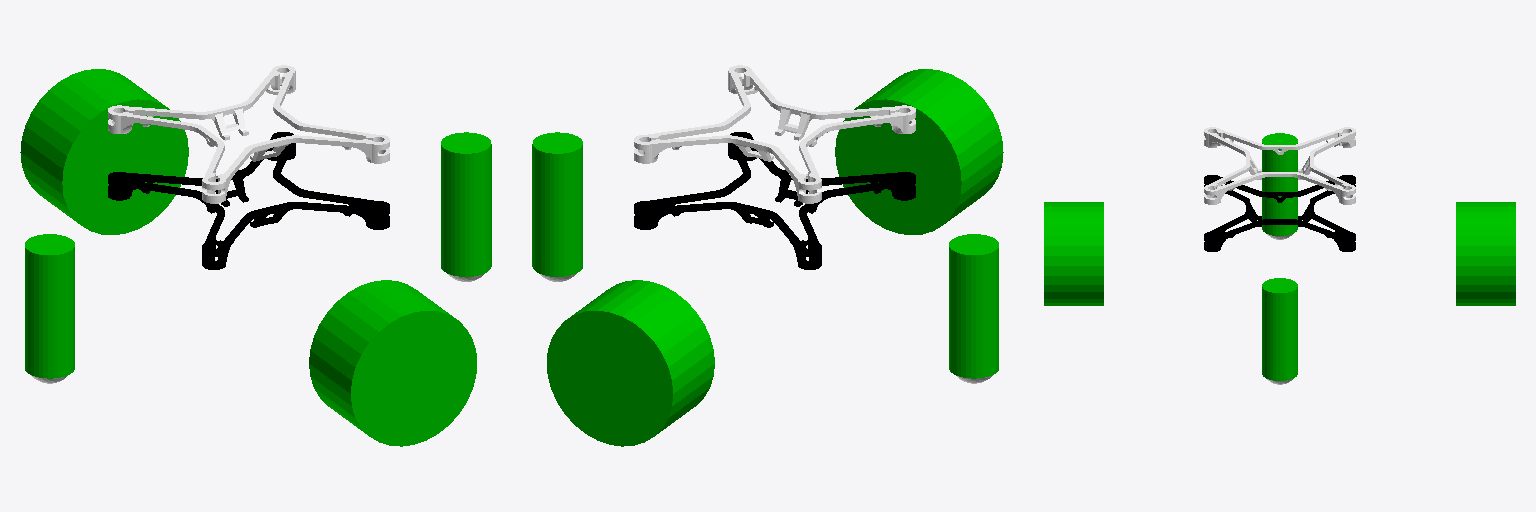
URDF robot description (edrone_model):
<?xml version="1.0" ?>

<robot name="edrone_model" xmlns:xacro="http://www.ros.org/wiki/xacro">

  <!-- Defining the colors used in this robot -->
  <material name="Black">
    <color rgba="0.0 0.0 0.0 1.0"/>
  </material>
  <material name="Red">
    <color rgba="0.8 0.0 0.0 1.0"/>
  </material>
  <material name="Green">
    <color rgba="0.0 0.8 0.0 1.0"/>
  </material>
  <material name="White">
    <color rgba="1.0 1.0 1.0 1.0"/>
  </material>
  <material name="Blue">
    <color rgba="0.0 0.0 0.8 1.0"/>
  </material>
  --&gt;

  <!-- BASE-LINK -->
  <!--Actual body/chassis of the robot-->
  <link name="frame_link">
    <visual>
      <origin rpy="-1.57079632679 0 1.57079632679" xyz="0 0 0.07"/>
      <geometry>
         <mesh filename="package://edrone_gazebo/urdf/stl/frame.stl" scale="0.001 0.001 0.001"/>
      </geometry>
      <material name="Black"/>
    </visual>
    <collision>
      <origin rpy="0 0 0" xyz="0 0 0.07"/>
      <geometry>
        <!--<mesh filename="package://indoor-mapping-2019/urdf/stl/Combine_Lower_Body.stl" scale="0.001 0.001 0.001"/> -->
        <cylinder length="0.004" radius="0.15"/>
      </geometry>
      <material name="White"/>
    </collision>
  </link>

  <gazebo reference="frame_link">
    <material>Gazebo/Black</material>
    <turnGravityOff>false</turnGravityOff>
  </gazebo>
  <!-- End base link -->

  <!-- Middle link  -->
  <link name="middle_link">
    <inertial>
        <mass value="0.2"/>
        <origin rpy="0 0 0" xyz="0 0 0"/>
        <inertia ixx="0.0000282916666667" ixy="0" ixz="0" iyy="0.0000282916666667" iyz="0" izz="0.00005625"/>
    </inertial>
    <visual>
      <origin rpy="-1.57079632679 0 1.57079632679" xyz="0 0 0"/>
      <geometry>
         <mesh filename="package://edrone_gazebo/urdf/stl/frame.stl" scale="0.001 0.001 0.001"/>
      </geometry>
      <material name="White"/>
    </visual>
    <collision>
      <origin rpy="-1.57079632679 0 1.57079632679" xyz="0 0 0"/>
      <geometry>
         <mesh filename="package://edrone_gazebo/urdf/stl/frame.stl" scale="0.001 0.001 0.001"/>
      </geometry>
      <material name="White"/>
    </collision>
  </link>

  <gazebo reference="middle_link">
    <material>Gazebo/White</material>
    <turnGravityOff>false</turnGravityOff>
  </gazebo>

  <joint name="middle_joint" type="fixed">
    <parent link="frame_link"/>
    <child link="middle_link"/>
    <origin rpy="0 0 0" xyz="0 0.0 .07"/>
  </joint>

  <gazebo reference="middle_link">
    <turnGravityOff>false</turnGravityOff>
    <material>Gazebo/White</material>
  </gazebo>
  <!-- End middle link -->

  <!-- Top link -->
  <link name="top_link">
    <inertial>
      <mass value="0.3"/>
      <origin rpy="0 0 0" xyz="0 0 0"/>
      <!--The 3x3 rotational inertia matrix. -->
      <inertia ixx="0.0000282916666667" ixy="0" ixz="0" iyy="0.0000282916666667" iyz="0" izz="0.00005625"/>
    </inertial>
    <visual>
      <origin rpy="-1.57079632679 0 1.57079632679" xyz="0 0 0"/>
      <geometry>
         <mesh filename="package://edrone_gazebo/urdf/stl/frame.stl" scale="0.001 0.001 0.001"/>
      </geometry>
      <material name="White"/>
    </visual>
    <collision>
      <origin rpy="-1.57079632679 0 1.57079632679" xyz="0 0 0"/>
      <geometry>
         <mesh filename="package://edrone_gazebo/urdf/stl/frame.stl" scale="0.001 0.001 0.001"/>
      </geometry>
      <material name="White"/>
    </collision>
  </link>

  <gazebo reference="top_link">
    <material>Gazebo/White</material>
    <turnGravityOff>false</turnGravityOff>
  </gazebo>

  <joint name="top_joint" type="fixed">
    <parent link="middle_link"/>
    <child link="top_link"/>
    <origin rpy="0 0 0" xyz="0 0.0 .035"/>
  </joint>

  <gazebo reference="top_link">
    <turnGravityOff>false</turnGravityOff>
    <material>Gazebo/White</material>
  </gazebo>
  <!-- End top link -->

  <!-- Right wheel -->
  <link name="right_wheel">
    <visual>
      <origin rpy="1.57079632679 0  0 " xyz="0 0 0"/>
      <geometry>
        <cylinder length="0.04" radius="0.035"/>
      </geometry>
      <material name="Green"/>
    </visual>
    <collision>
      <origin rpy="1.57079632679 0 0 " xyz="0 0 0"/>
      <geometry>
        <cylinder length="0.04" radius="0.035"/>
      </geometry>
    </collision>
    <inertial>
      <mass value="0.5"/>
      <origin xyz="0 0 0"/>
      <inertia ixx="0.0001" ixy="0" ixz="0" iyy="0.0001" iyz="0" izz="0.0001"/>
    </inertial>
  </link>

  <gazebo reference="right_wheel">
    <mu1 value="1.0"/>
    <mu2 value="1.0"/>
    <kp value="100000.0"/>
    <kd value="1.0"/>
    <fdir1 value="1 0 0"/>
    <material>Gazebo/Green</material>
    <turnGravityOff>false</turnGravityOff>
  </gazebo>

  <joint name="right_wheel_joint" type="continuous">
    <parent link="frame_link"/>
    <child link="right_wheel"/>
      <origin rpy="0 0 0" xyz="0.0 0.138 0.035"/>
    <axis rpy="0 0 0" xyz="0 1 0"/>
    <limit effort="100" velocity="100"/>
    <joint_properties damping="0.0" friction="0.0"/>
  </joint>
  <!-- End right wheel-->

  <!-- Left wheel-->
  <link name="left_wheel">
    <visual>
      <origin rpy="1.57079632679 0  0 " xyz="0 0 0"/>
      <geometry>
        <cylinder length="0.04" radius="0.035"/>
      </geometry>
      <material name="Green"/>
    </visual>
    <collision>
      <origin rpy="1.57079632679 0 0 " xyz="0 0 0"/>
      <geometry>
        <cylinder length="0.04" radius="0.035"/>
      </geometry>
    </collision>
    <inertial>
      <mass value="0.5"/>
      <origin xyz="0 0 0"/>
      <inertia ixx="0.0001" ixy="0" ixz="0" iyy="0.0001" iyz="0" izz="0.0001"/>
    </inertial>
  </link>

  <gazebo reference="left_wheel">
    <mu1 value="1.0"/>
    <mu2 value="1.0"/>
    <kp value="100000.0"/>
    <kd value="1.0"/>
    <fdir1 value="1 0 0"/>
    <material>Gazebo/Green</material>
    <turnGravityOff>false</turnGravityOff>
  </gazebo>

  <joint name="left_wheel_joint" type="continuous">
    <parent link="frame_link"/>
    <child link="left_wheel"/>
    <origin rpy="0 0 0" xyz="0 -0.138 0.035"/>
    <axis rpy="0  0" xyz="0 1 0"/>
    <limit effort="100" velocity="100"/>
    <joint_properties damping="0.0" friction="0.0"/>
  </joint>

  <!-- Transmission is important to link the joints and the controller -->
  <transmission name="right_wheel_joint_trans">
    <type>transmission_interface/SimpleTransmission</type>
    <joint name="right_wheel_joint"/>
    <actuator name="right_wheel_joint_motor">
      <hardwareInterface>EffortJointInterface</hardwareInterface>
      <mechanicalReduction>1</mechanicalReduction>
    </actuator>
  </transmission>

  <transmission name="left_wheel_joint_trans">
    <type>transmission_interface/SimpleTransmission</type>
    <joint name="left_wheel_joint"/>
    <actuator name="left_wheel_joint_motor">
      <hardwareInterface>EffortJointInterface</hardwareInterface>
      <mechanicalReduction>1</mechanicalReduction>
    </actuator>
  </transmission>


  <!-- Front Caster -->
  <link name="caster_front_link">
    <visual>
      <origin rpy="1.57079632679 0 0" xyz="0 0 0"/>
      <geometry>
        <sphere radius="0.01214"/>
      </geometry>
      <material name="White"/>
    </visual>
    <collision>
      <geometry>
        <sphere radius="0.007"/>
      </geometry>
      <origin rpy="1.57079632679 0 0" xyz="0 0 0"/>
    </collision>
    <inertial>
      <mass value="0.01"/>
      <origin xyz="0 0 0"/>
      <inertia ixx="0.0000001" ixy="0.0" ixz="0.0" iyy="0.0000001" iyz="0.0" izz="0.0000001"/>
    </inertial>
  </link>
  <joint name="caster_front_joint" type="continuous">
    <parent link="caster_link"/>
    <child link="caster_front_link"/>
    <origin rpy="0 0 0" xyz="0.05 0 -0.0275"/>
    <axis rpy="0 0 0" xyz="0 1 0"/>
  </joint>
  <gazebo reference="caster_front_link">
  <!--
    <mu1 value="1.0"/>
    <mu2 value="1.0"/>
    <kp value="100000.0"/>
    <kd value="1.0"/>
    <fdir1 value="1 1 0"/>
  -->
    <turnGravityOff>false</turnGravityOff>
    <material>Gazebo/White</material>
  </gazebo>

  <link name="caster_link">
    <visual>
      <origin rpy="0 0  0 " xyz="0.05 0 0"/>
      <geometry>
        <cylinder length="0.065" radius="0.01214"/>
      </geometry>
      <material name="Green"/>
    </visual>
    <collision>
      <origin rpy="0 0 0 " xyz="0.05 0 0"/>
      <geometry>
        <cylinder length="0.065" radius="0.005"/>
      </geometry>
    </collision>
    <inertial>
      <mass value="0.05"/>
      <origin xyz="0.05 0 0"/>
      <inertia ixx="0.00001" ixy="0" ixz="0" iyy="0.00001" iyz="0" izz="0.00001"/>
    </inertial>
  </link>

  <joint name="caster_front_joint_base" type="fixed">
    <parent link="frame_link"/>
    <child link="caster_link"/>
    <origin rpy="0 0 0" xyz="0.07 0.0 .035"/>
  </joint>

  <gazebo reference="caster_link">
    <turnGravityOff>false</turnGravityOff>
    <material>Gazebo/White</material>
  </gazebo>

  <!-- Back caster  -->
  <link name="caster_back_link">
    <visual>
      <origin rpy="1.57079632679 0 0" xyz="0 0 0"/>
      <geometry>
        <sphere radius="0.01214"/>
      </geometry>
      <material name="White"/>
    </visual>
    <collision>
      <geometry>
        <sphere radius="0.007"/>
      </geometry>
      <origin rpy="1.57079632679 0 0" xyz="0 0 0"/>
    </collision>
    <inertial>
      <mass value="0.01"/>
      <origin xyz="0 0 0"/>
      <inertia ixx="0.0000001" ixy="0.0" ixz="0.0" iyy="0.0000001" iyz="0.0" izz="0.0000001"/>
    </inertial>
  </link>
  <joint name="caster_back_joint" type="continuous">
    <parent link="caster_b_link"/>
    <child link="caster_back_link"/>
    <origin rpy="0 0 0" xyz="0.05 0 -0.0275"/>
    <axis rpy="0 0 0" xyz="0 1 0"/>
  </joint>

  <gazebo reference="caster_front_link">
  <!--
    <mu1 value="1.0"/>
    <mu2 value="1.0"/>
    <kp value="100000.0"/>
    <kd value="1.0"/>
    <fdir1 value="1 1 0"/>
  -->
    <turnGravityOff>false</turnGravityOff>
    <material>Gazebo/White</material>
  </gazebo>

  <link name="caster_b_link">
    <visual>
      <origin rpy="0 0  0 " xyz="0.05 0 0"/>
      <geometry>
        <cylinder length="0.065" radius="0.01214"/>
      </geometry>
      <material name="Green"/>
    </visual>
    <collision>
      <origin rpy="0 0 0 " xyz="0.05 0 0"/>
      <geometry>
        <cylinder length="0.065" radius="0.005"/>
      </geometry>
    </collision>
    <inertial>
      <mass value="0.05"/>
      <origin xyz="0.05 0 0"/>
      <inertia ixx="0.00001" ixy="0" ixz="0" iyy="0.00001" iyz="0" izz="0.00001"/>
    </inertial>
  </link>

  <joint name="caster_back_joint_base" type="fixed">
    <parent link="frame_link"/>
    <child link="caster_b_link"/>
    <origin rpy="0 0 0" xyz="-0.16 0.0 .035"/>
  </joint>

  <gazebo reference="caster_link">
    <turnGravityOff>false</turnGravityOff>
    <material>Gazebo/White</material>
  </gazebo>

  <!-- Kinect sensor -->
  <link name="kinect_link" >
    <inertial>
      <mass value="0.1"/>
      <origin rpy="0 0 0" xyz="0 0 0"/>
      <inertia ixx="0.0000282916666667" ixy="0" ixz="0" iyy="0.0000282916666667" iyz="0" izz="0.00005625"/>
    </inertial>
    <visual>
      <origin rpy="0 0 0" xyz="0 0 0"/>
      <geometry>
            <mesh filename="package://indoor-mapping-2019/urdf/meshes/kinect.stl" scale="0.001 0.001 0.001"/>
      </geometry>
      <material name="Black"/>
    </visual>
    <collision>
      <origin rpy="0 0 0" xyz="0 0 0"/>
      <geometry>
        <cylinder length="0.065" radius="0.005"/>
      </geometry>
      <material name="Black"/>
    </collision>
  </link>

  <joint name="kinect_joint" type="fixed">
    <parent link="middle_link"/>
    <child link="kinect_link"/>
    <origin rpy="0 0 0" xyz="0.075 0.0 0.155"/>
  </joint>

  <gazebo reference="kinect_link">
    <turnGravityOff>false</turnGravityOff>
    <material>Gazebo/Black</material>
  </gazebo>
  <!-- End kinect sensor -->

  <!-- Dummy link to hold camera -->
  <!-- Ensures that transformations can be applied to pointcloud data without affecting the kinect link-->
  <link name="camera_link" >
  </link>

  <joint name="camera_joint" type="fixed">
    <parent link="kinect_link"/>
    <child link="camera_link"/>
      <origin rpy="0 0 0" xyz="0 0 0"/>
  </joint>
  <!-- End dummy link -->

  <!-- Gazebo kinect camera plugin -->
  <gazebo reference="camera_link">
    <sensor name='camera' type='depth'>
      <always_on>1</always_on>
      <update_rate>20</update_rate>
      <camera name='__default__'>
        <horizontal_fov>1.0472</horizontal_fov>
        <image>
          <format>B8G8R8</format>
          <width>640</width>
          <height>480</height>
        </image>
        <clip>
          <near>0.05</near>
          <far>8</far>
        </clip>
      </camera>
      <plugin name='kinect_camera_controller' filename='libgazebo_ros_openni_kinect.so'>
        <cameraName>camera</cameraName>
        <alwaysOn>true</alwaysOn>
        <updateRate>10</updateRate>
        <imageTopicName>rgb/image_raw</imageTopicName>
        <depthImageTopicName>depth/image_raw</depthImageTopicName>
        <pointCloudTopicName>depth/points</pointCloudTopicName>
        <cameraInfoTopicName>rgb/camera_info</cameraInfoTopicName>
        <depthImageCameraInfoTopicName>depth/camera_info</depthImageCameraInfoTopicName>
        <frameName>camera_link</frameName>
        <baseline>0.1</baseline>
        <distortion_k1>0.0</distortion_k1>
        <distortion_k2>0.0</distortion_k2>
        <distortion_k3>0.0</distortion_k3>
        <distortion_t1>0.0</distortion_t1>
        <distortion_t2>0.0</distortion_t2>
        <pointCloudCutoff>0.4</pointCloudCutoff>
        <robotNamespace>/</robotNamespace>
      </plugin>
      <pose> -0.087 -0.0015 0.2972 1.58 0 0</pose>
    </sensor>
  </gazebo>
  <!-- End kinect camera plugin -->

  <!-- Gazebo differential drive robot plugin -->
  <gazebo>
    <plugin filename="libgazebo_ros_diff_drive.so" name="differential_drive_controller_front">
      <legacyMode>True</legacyMode>
      <rosDebugLevel>False</rosDebugLevel>
      <publishWheelTF>True</publishWheelTF>
      <publishTf>true</publishTf>
      <publishWheelJointState>true</publishWheelJointState>
      <alwaysOn>true</alwaysOn>
      <updateRate>10.0</updateRate>
      <leftJoint>left_wheel_joint</leftJoint>
      <rightJoint>right_wheel_joint</rightJoint>
      <wheelSeparation>0.3</wheelSeparation>
      <wheelDiameter>0.065</wheelDiameter>
      <broadcastTF>true</broadcastTF>
      <wheelTorque>30</wheelTorque>
      <wheelAcceleration>1.8</wheelAcceleration>
      <commandTopic>cmd_vel</commandTopic>
      <publishOdomTF>true</publishOdomTF>
      <odometrySource>world</odometrySource>
      <odometryFrame>odom</odometryFrame>
      <odometryTopic>odom</odometryTopic>
      <robotBaseFrame>frame_link</robotBaseFrame>
    </plugin>
  </gazebo>
  <!-- End differential drive plugin -->

</robot>

--- Facts derived from the render (not from the file) ---
3 views of the same robot in one strip: view 1: azimuth 30°, elevation 25°; view 2: azimuth 150°, elevation 25°; view 3: azimuth 270°, elevation 25° (orthographic).
Model edrone_model with 11 links and 10 joints (4 continuous, 6 fixed), rooted at frame_link, posed all joints at 0.
Links seen in each view (by area): view 1: left_wheel, right_wheel, top_link, caster_link, caster_b_link, frame_link; view 2: right_wheel, left_wheel, top_link, caster_link, caster_b_link, frame_link; view 3: right_wheel, left_wheel, top_link, caster_link, frame_link, caster_b_link.
Link boxes in pixels (box(x1,y1,x2,y2)): left_wheel: box(309, 280, 476, 446); right_wheel: box(20, 69, 188, 234); top_link: box(108, 65, 389, 203); caster_link: box(441, 132, 491, 276); caster_b_link: box(25, 234, 74, 378); frame_link: box(108, 132, 389, 269); right_wheel: box(547, 280, 714, 446); left_wheel: box(835, 69, 1003, 234); top_link: box(634, 65, 915, 203); caster_link: box(532, 132, 582, 276); caster_b_link: box(949, 234, 998, 378); frame_link: box(634, 132, 915, 269); right_wheel: box(1456, 202, 1515, 305); left_wheel: box(1044, 202, 1103, 305); top_link: box(1204, 127, 1355, 204); caster_link: box(1262, 278, 1297, 380); frame_link: box(1204, 175, 1355, 251); caster_b_link: box(1262, 133, 1297, 235).
Size in the robot's own frame: 0.2543 by 0.316 by 0.1096 metres.
3 mesh visuals loaded from 2 distinct referenced files (1 binary STL); not drawn: 1 (reference not matched to a file when rendering).